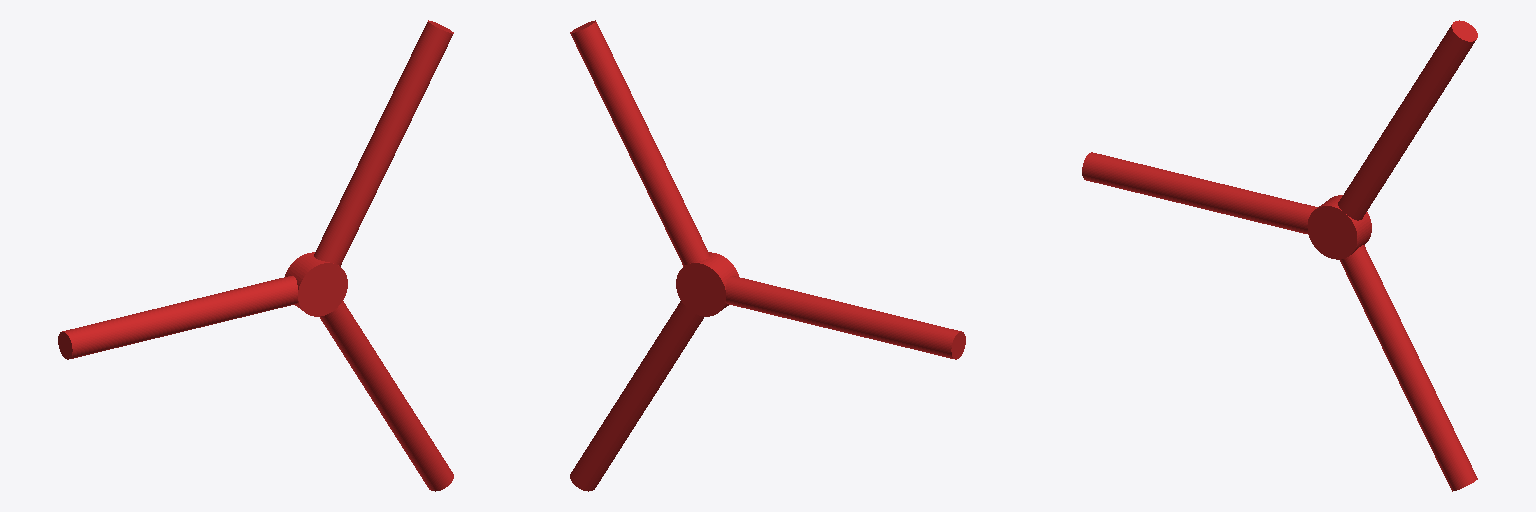
robot.urdf — valve:
<?xml version="1.0" encoding="utf-8"?>
<!-- This URDF was automatically created by SolidWorks to URDF Exporter! Originally created by [author] ([email redacted]) 
     Commit Version: 1.6.0-4-g7f85cfe  Build Version: 1.6.7995.38578
     For more information, please see http://wiki.ros.org/sw_urdf_exporter -->
<robot
  name="valve">
  <link
    name="base_link">
    <inertial>
      <origin xyz="0. 0. 0." rpy="0 0 0" />
      <mass value="10." />
      <inertia
        ixx="33.355"
        ixy="6.996E-17"
        ixz="5.6201E-32"
        iyy="41.667"
        iyz="-1.9012E-15"
        izz="8.3546" />
    </inertial>
<!-- 
    <visual>
      <origin xyz="0 0 0" rpy="0 0 0" />
      <geometry>
        <mesh filename="package://valve/meshes/base_link.STL" />
      </geometry>
      <material name="metal">
        <color rgba="1 1 1 1" />
      </material>
    </visual> -->

    <!-- <collision>
      <origin xyz="0 0 0" rpy="0 0 0" />
      <geometry>
        <mesh filename="package://valve/meshes/base_link.STL" />
      </geometry>
    </collision> -->
  </link>
  <link
    name="link_1">
    <inertial>
      <origin xyz="4.017E-08 8.8129E-08 0.015" rpy="0 0 0" />
      <mass value="0.01" />
      <inertia
        ixx="0.020243"
        ixy="4.6844E-09"
        ixz="-5.1511E-09"
        iyy="0.020243"
        iyz="1.5428E-09"
        izz="0.04034" />
    </inertial>

    <visual>
      <origin xyz="0.0 0.0 0.0" rpy="0. 1.5708 1.5708" />
      <!-- <origin xyz="0.0 0.0 0.0" rpy="0. 1.5708 1.04" /> -->
      <!-- <origin xyz="0 0 0" rpy="0. 1.5708 0.7854" /> -->
      <!-- <origin xyz="0 0 0" rpy="0. 1.5708 0." /> -->


      <geometry>
        <mesh filename="package://valve/meshes/valve.obj" />
      </geometry>

      <material name="Front">
        <color rgba="0.8 0.2 0.2 1" />
      </material>
    </visual>

    <collision>
      <origin xyz="0.0 0.0 0.0" rpy="0. 1.5708 1.5708" />
      <!-- <origin xyz="0.0 0.0 0.0" rpy="0. 1.5708 1.04" /> -->
      <!-- <origin xyz="0 0 0" rpy="0. 1.5708 0.7854" /> -->
      <geometry>
        <mesh
          filename="package://valve/meshes/valve_0.0025.obj" />
      </geometry>
    </collision>
  </link>
  
  <joint name="joint_1" type="revolute">
    <origin xyz="0 -0.1 0" rpy="1.5708 0 0" />
    <parent link="base_link" />
    <child link="link_1" />
    <axis xyz="0 0 1" />
    <limit lower="0" upper="2.047" effort="100" velocity="1" />
  </joint>
</robot>

--- What the picture shows (computed from the rendered views, not written in the file) ---
Views: 3 orthographic renders of the robot side by side, from view 1: azimuth 30°, elevation 25°; view 2: azimuth 150°, elevation 25°; view 3: azimuth 330°, elevation 25°.
Model valve with 2 links and 1 joints (1 revolute), rooted at base_link, posed all joints at 0.
Links seen in each view (by area): view 1: link_1; view 2: link_1; view 3: link_1.
Link boxes in pixels (bbox=[...]): link_1: bbox=[58, 20, 453, 491]; link_1: bbox=[570, 20, 965, 491]; link_1: bbox=[1082, 20, 1477, 491].
Bounding box of the posed robot: 0.463 × 0.03 × 0.5346 m (x, y, z).
Meshes: 1 distinct files referenced, 1 mesh visuals loaded (1 OBJ).